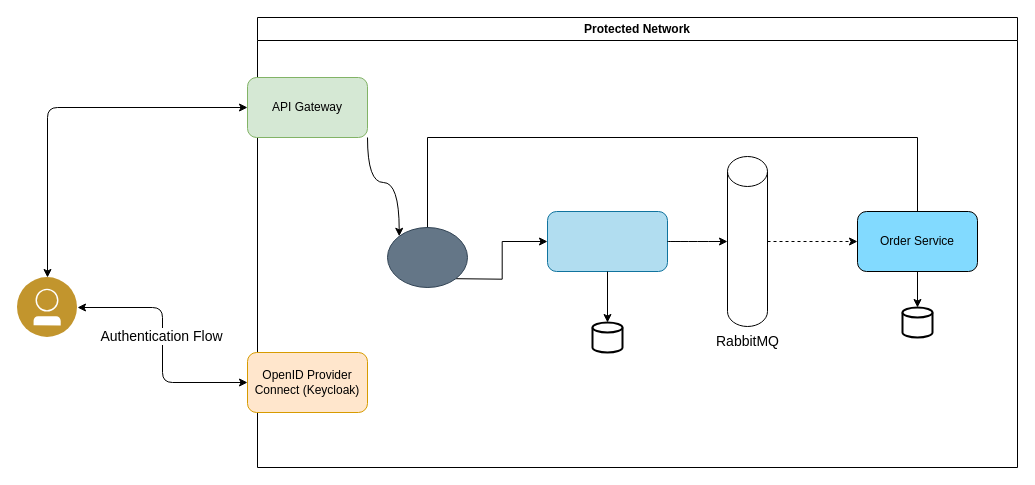
Image size: 1035x485. Some labels were removed from this diagram. The shapes that lost their labels are listed below. From the top down, each one's box as (x1, y1, x2, y2) in pixels, then its label:
(386, 226, 468, 288): Eureka Service Registry
(546, 210, 668, 272): Product Service
